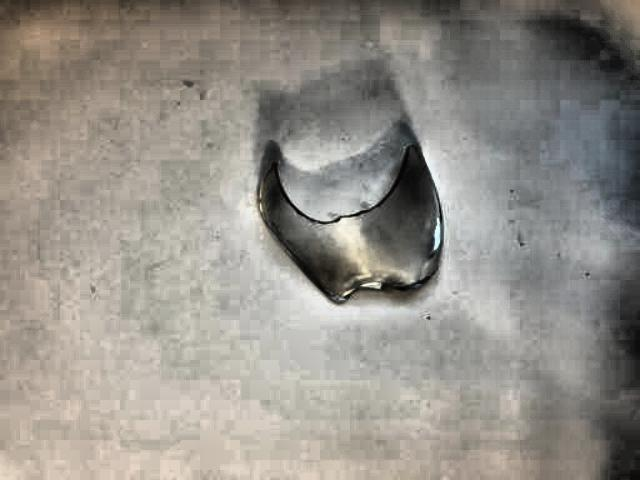Almennt: (233, 112, 499, 336)
